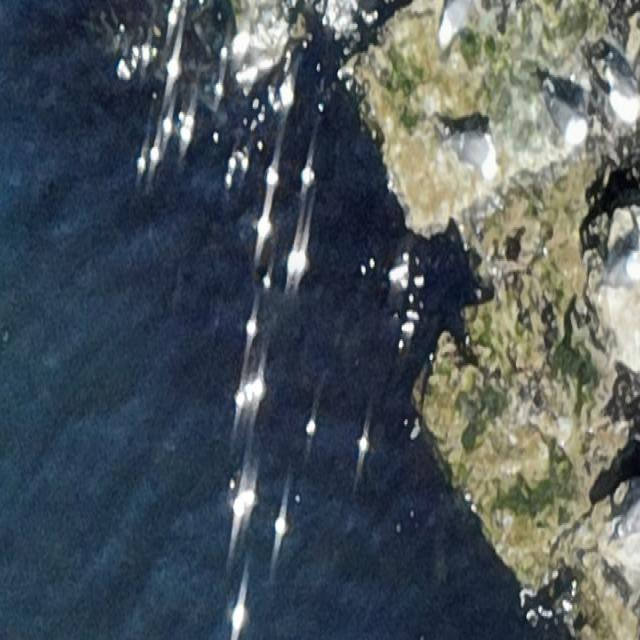umineko: (448, 126, 498, 181), (598, 59, 638, 120), (544, 89, 590, 142), (438, 2, 474, 47), (610, 249, 639, 292)
